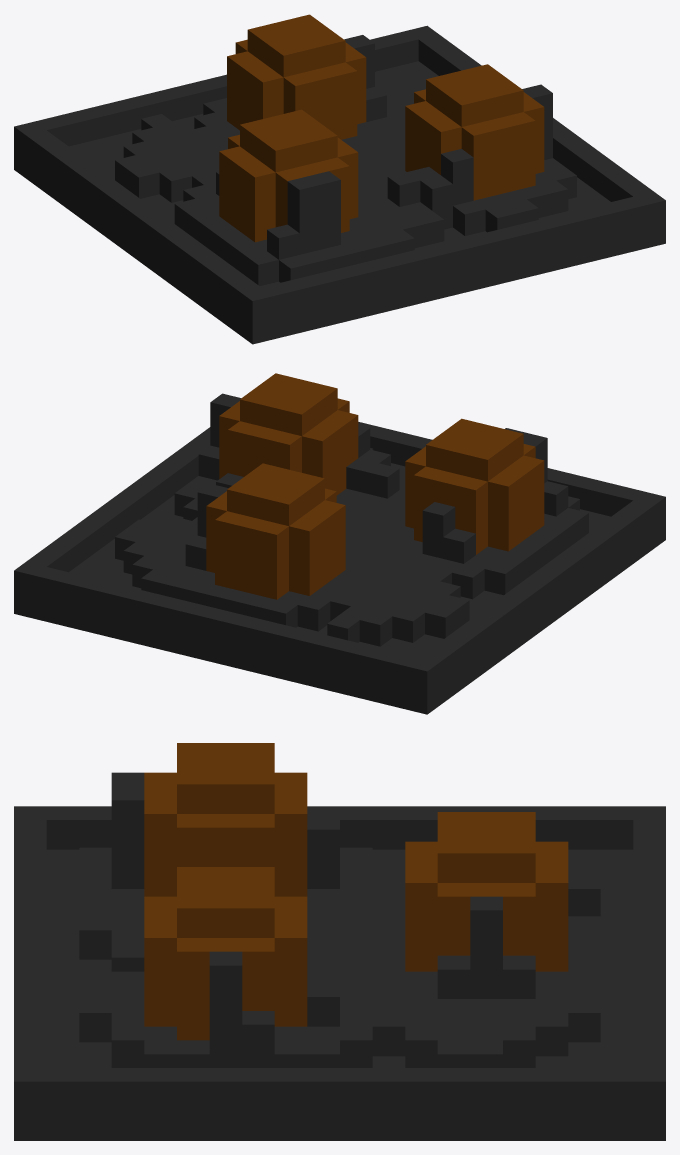
Rendered from TomatoMeatballs.obj.
3 renders of one model, top to bottom at view 1: azimuth 30°, elevation 25°; view 2: azimuth 150°, elevation 25°; view 3: azimuth 270°, elevation 25°, orthographic. The views are drawn at different scales.
Size of the model in its own units: 2 by 0.7 by 2.
